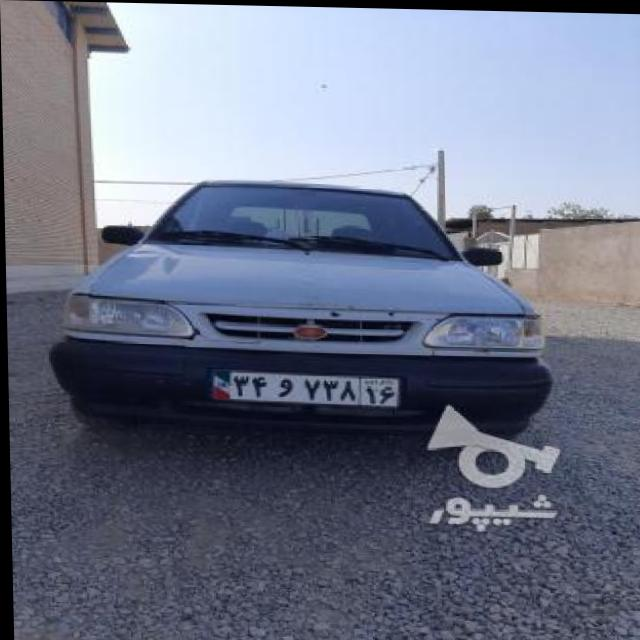licence: (203, 367, 397, 406)
